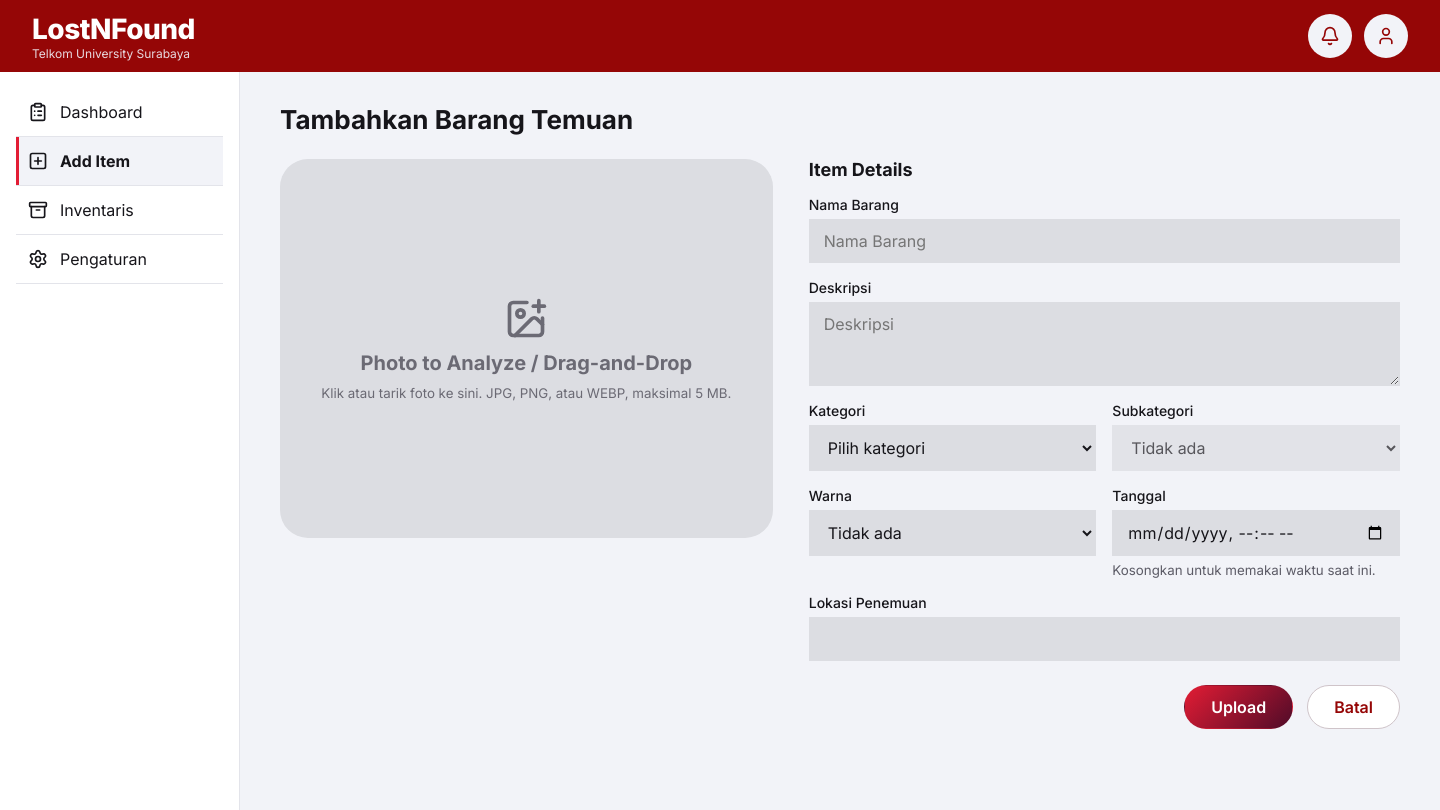
tambah barang › menolak submit tanpa foto
Check: the field labelled "Nama Barang" is shown, box [809,219,1400,263]
Step 1. Click the button "Upload" → (1239, 707), box [1184,685,1293,729]
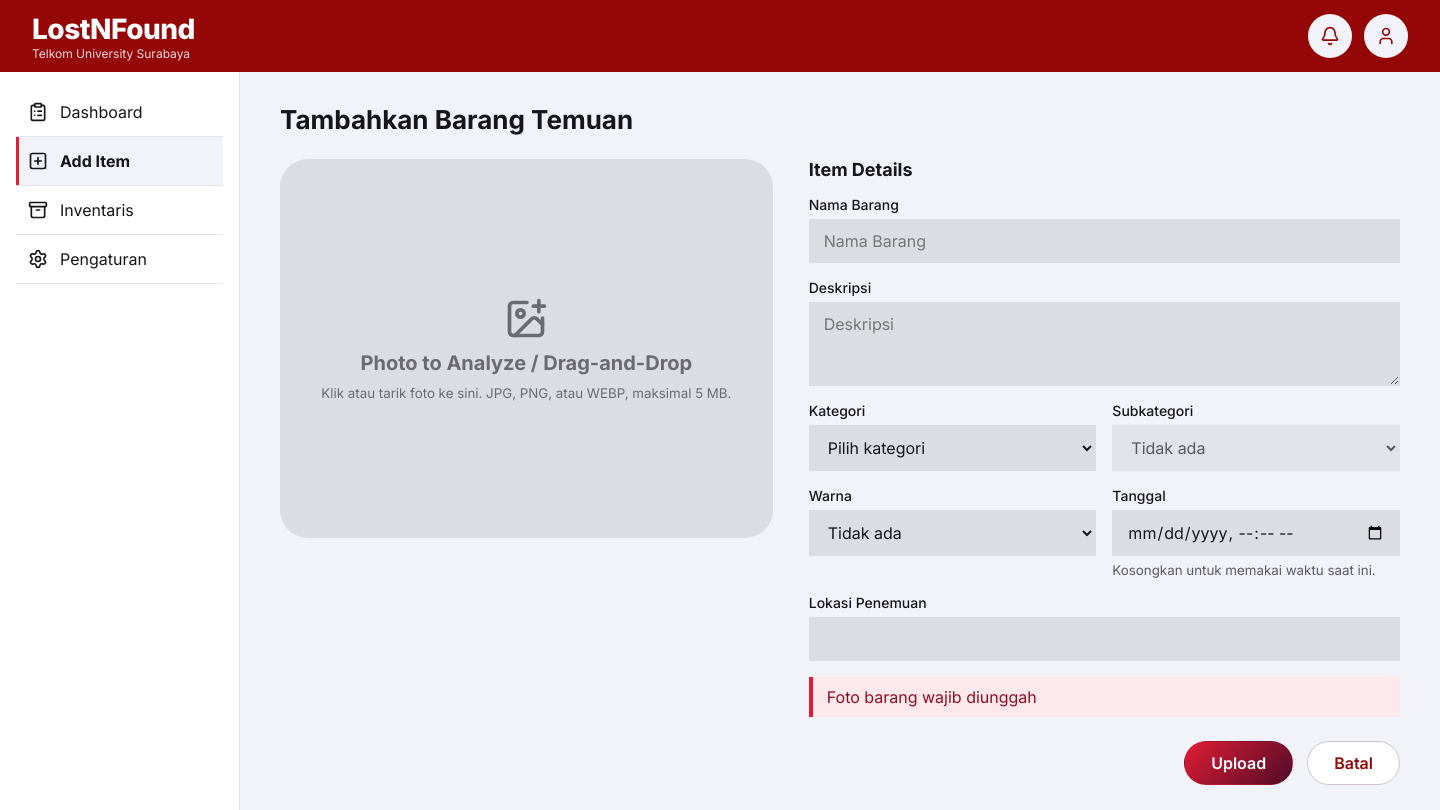
Check: the text "Foto barang wajib diunggah" is shown, box [809,677,1400,717]
